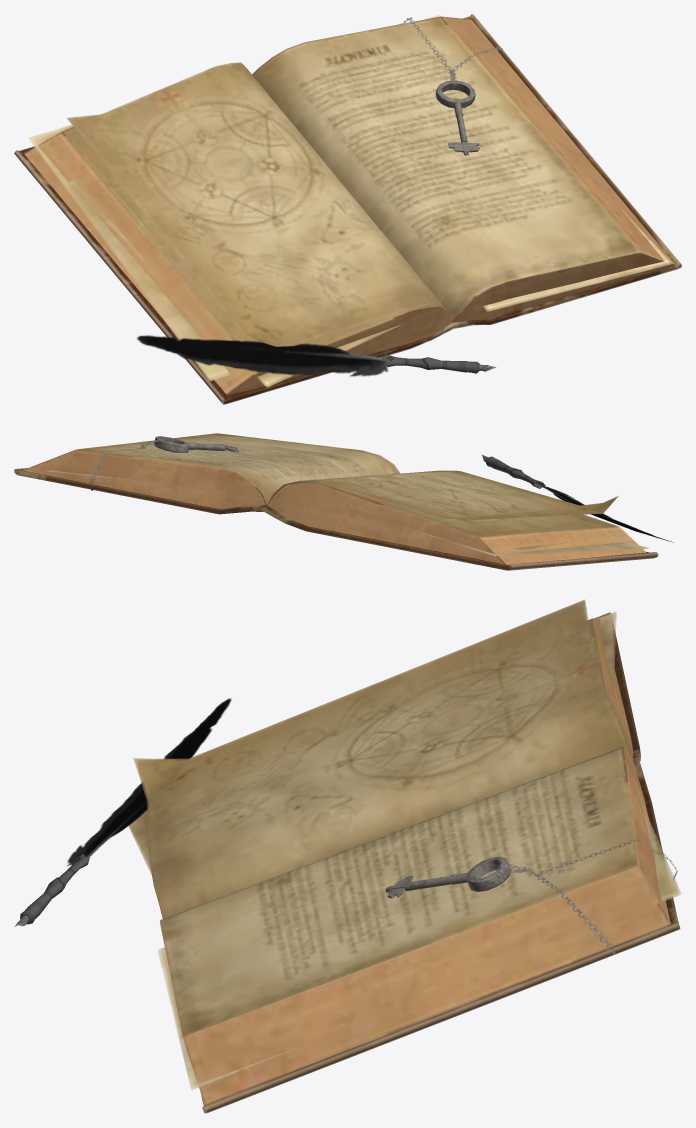
The model's file is antique-book.glb.
3 renders of one model, top to bottom at view 1: azimuth 30°, elevation 25°; view 2: azimuth 150°, elevation 25°; view 3: azimuth 270°, elevation 25°, orthographic. The views are drawn at different scales.
Visible parts, largest first — view 1: Book_frame_Books_Material_0; view 2: Book_frame_Books_Material_0; view 3: Book_frame_Books_Material_0.
Boxes of the visible parts, bbox=[...] form: Book_frame_Books_Material_0: bbox=[14, 14, 681, 404]; Book_frame_Books_Material_0: bbox=[14, 433, 673, 570]; Book_frame_Books_Material_0: bbox=[14, 599, 681, 1113].
Size of the model in its own units: 0.3133 by 0.0931 by 0.2535.
1 material, 1 textured.
